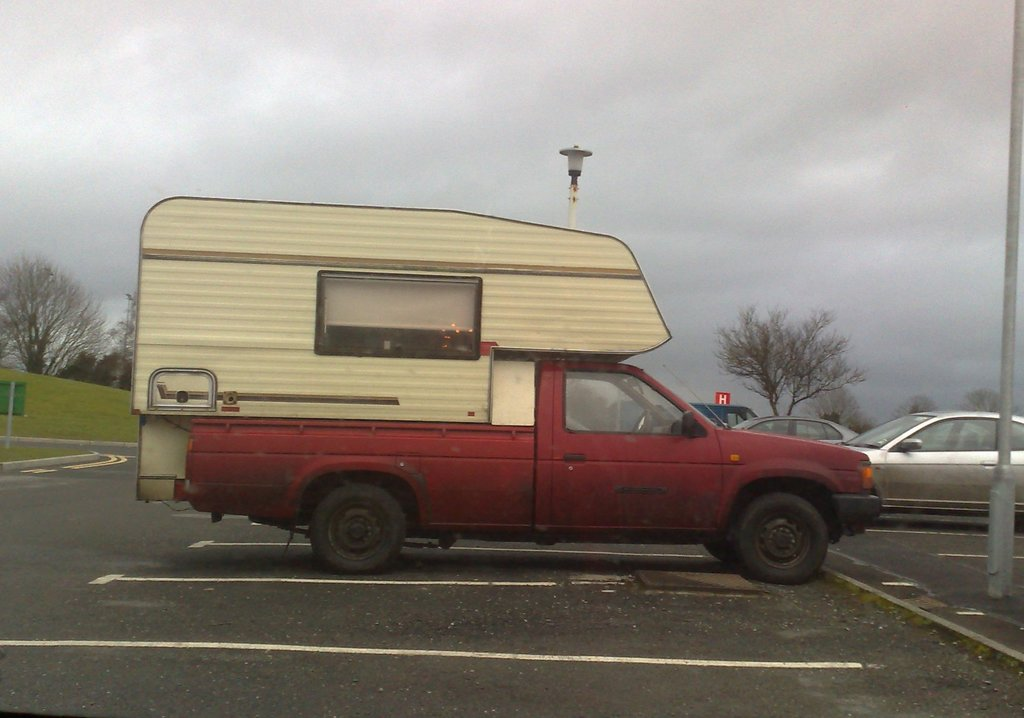Car: (838, 410, 1023, 534), (735, 414, 870, 444)
